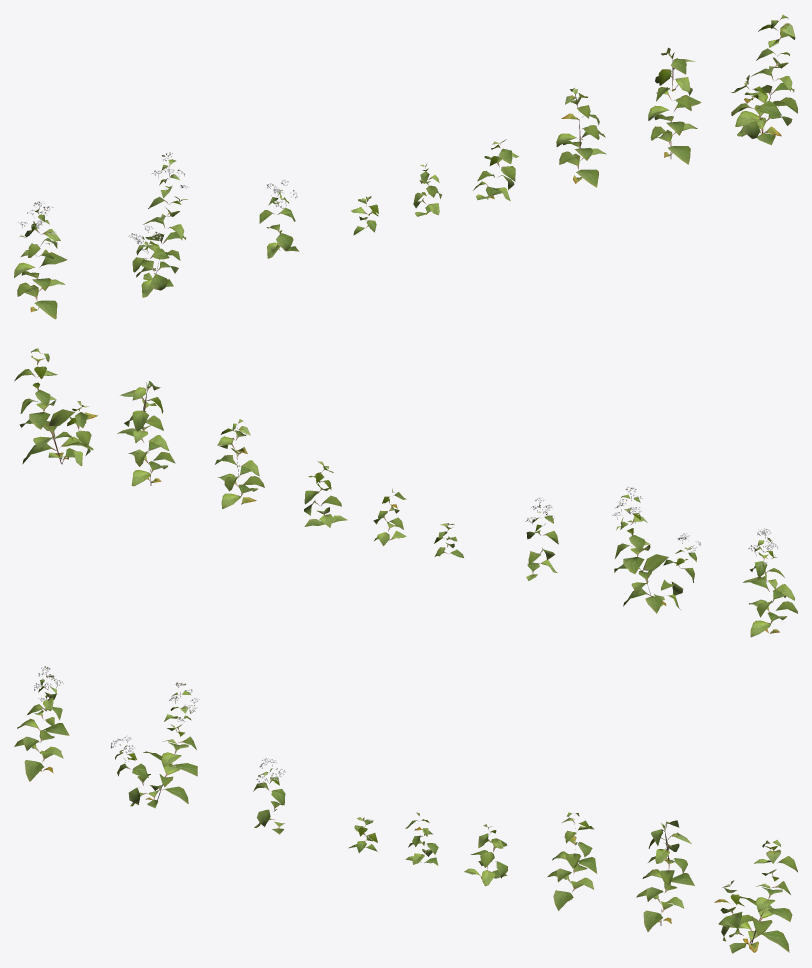
3 renders of one model, top to bottom at view 1: azimuth 30°, elevation 25°; view 2: azimuth 150°, elevation 25°; view 3: azimuth 330°, elevation 25°, orthographic. The views are drawn at different scales.
Parts seen in each view (by area): view 1: shrub_01_a; view 2: shrub_01_a; view 3: shrub_01_a.
Part boxes in pixels (left/top/right/bottom): shrub_01_a: left=14, top=14, right=797, bottom=319; shrub_01_a: left=14, top=348, right=797, bottom=637; shrub_01_a: left=14, top=666, right=797, bottom=953.
Bounding box in the file's own units: 2.59 × 0.3946 × 0.2175.
Materials: 1 (1 with a texture image).
